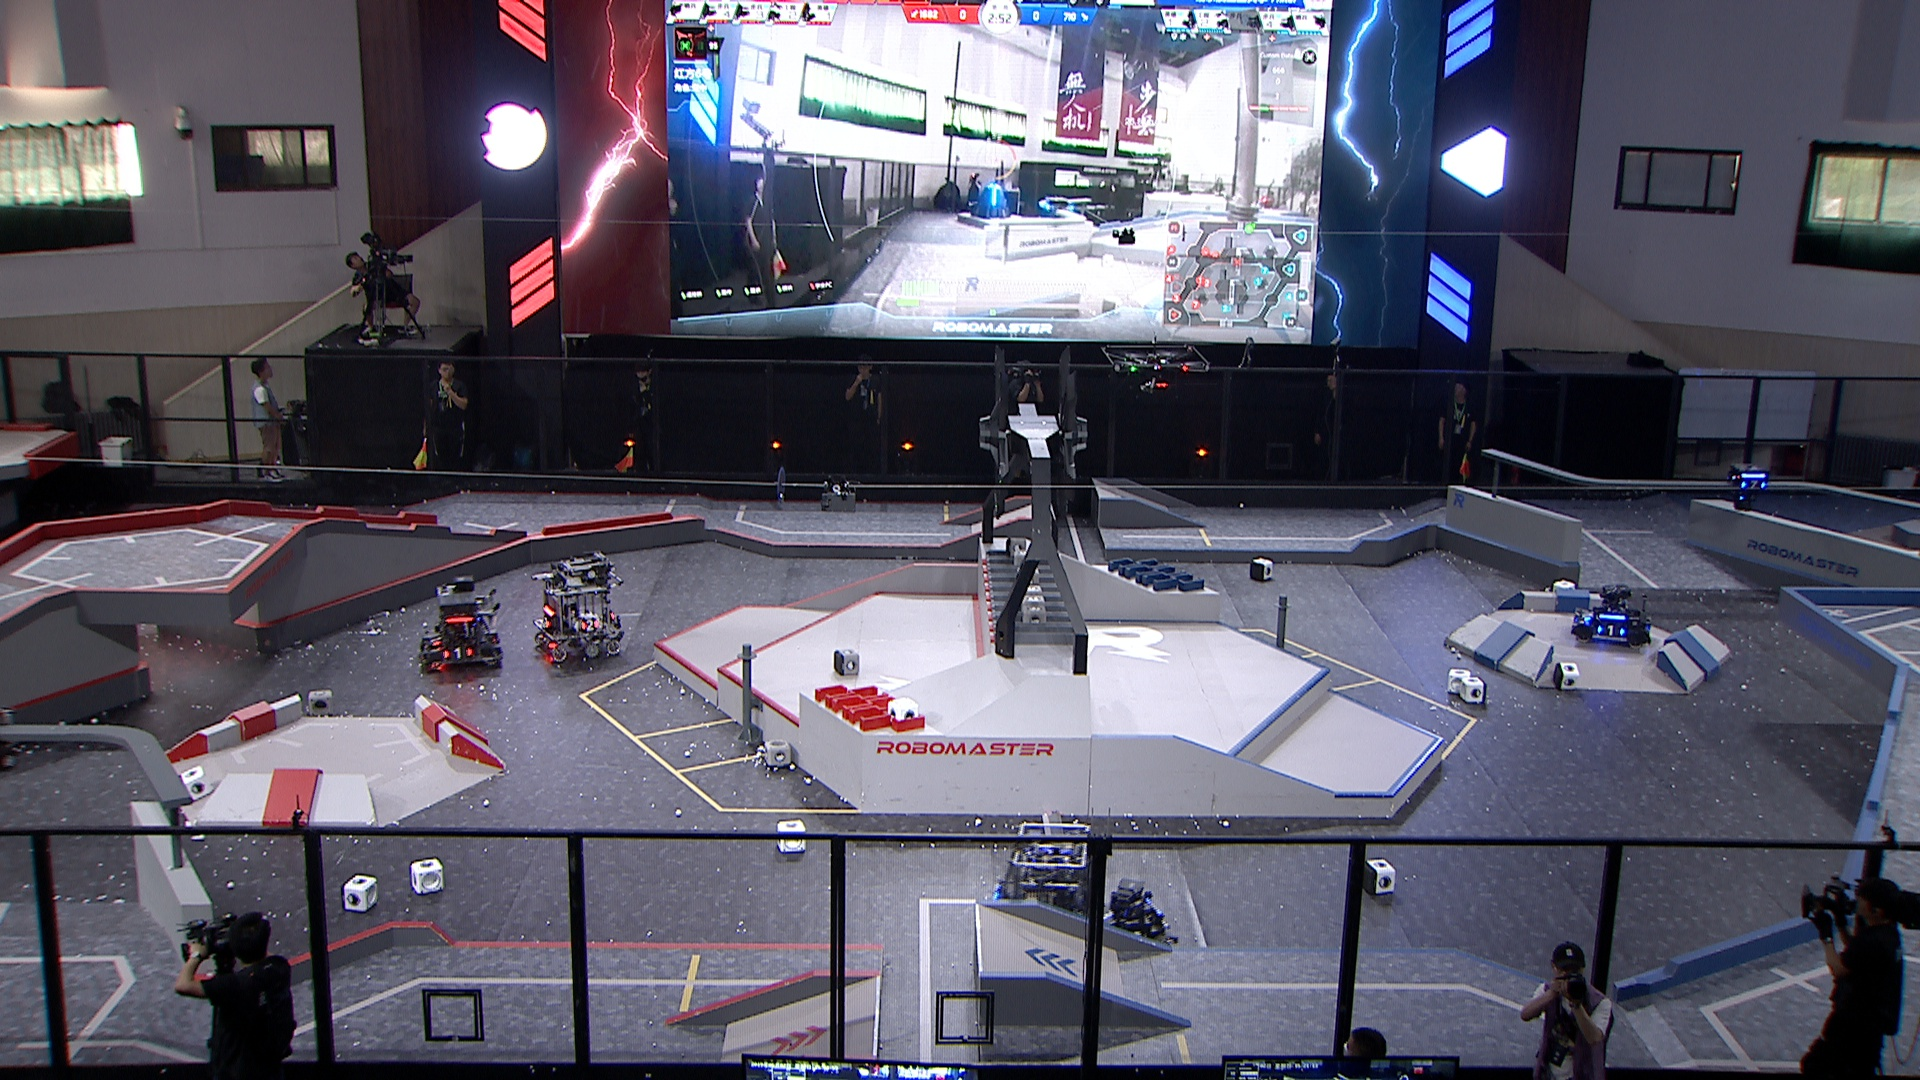armor: (1598, 622, 1627, 638), (440, 646, 475, 659), (1741, 479, 1766, 493), (580, 618, 599, 633), (430, 633, 443, 647), (1581, 611, 1596, 624), (541, 617, 553, 632)
car: (988, 822, 1101, 935), (533, 550, 624, 665), (1083, 878, 1183, 967), (418, 575, 506, 671), (1572, 583, 1652, 647)
ignore: (968, 183, 1013, 220)
watcher: (1726, 463, 1771, 513)
